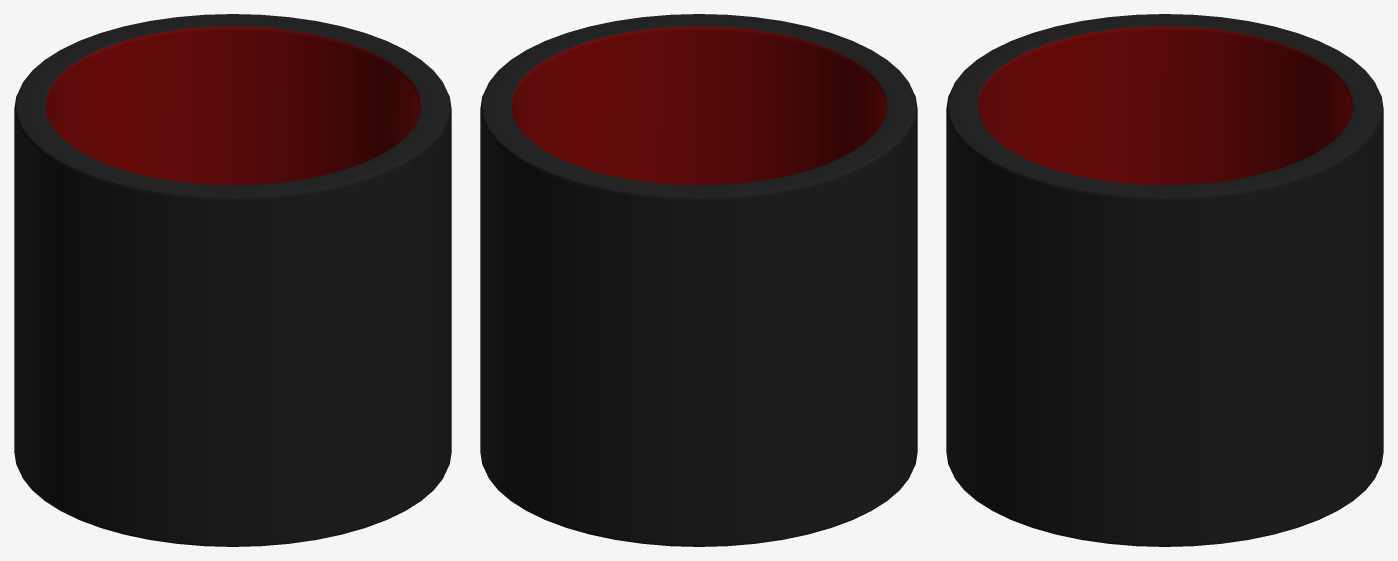
File: cup.glb
The picture shows the model from 3 angles, left to right: view 1: azimuth 30°, elevation 25°; view 2: azimuth 150°, elevation 25°; view 3: azimuth 270°, elevation 25°; orthographic projection.
Visible parts, largest first — view 1: 0_Cup_mesh_; view 2: 0_Cup_mesh_; view 3: 0_Cup_mesh_.
Boxes of the visible parts, x1,y1,x2,y2 form: 0_Cup_mesh_: [14, 14, 451, 546]; 0_Cup_mesh_: [480, 14, 917, 546]; 0_Cup_mesh_: [946, 14, 1383, 546].
Size of the model in its own units: 18.77 by 16.66 by 18.77.
Materials: 1 (1 with a texture image).
